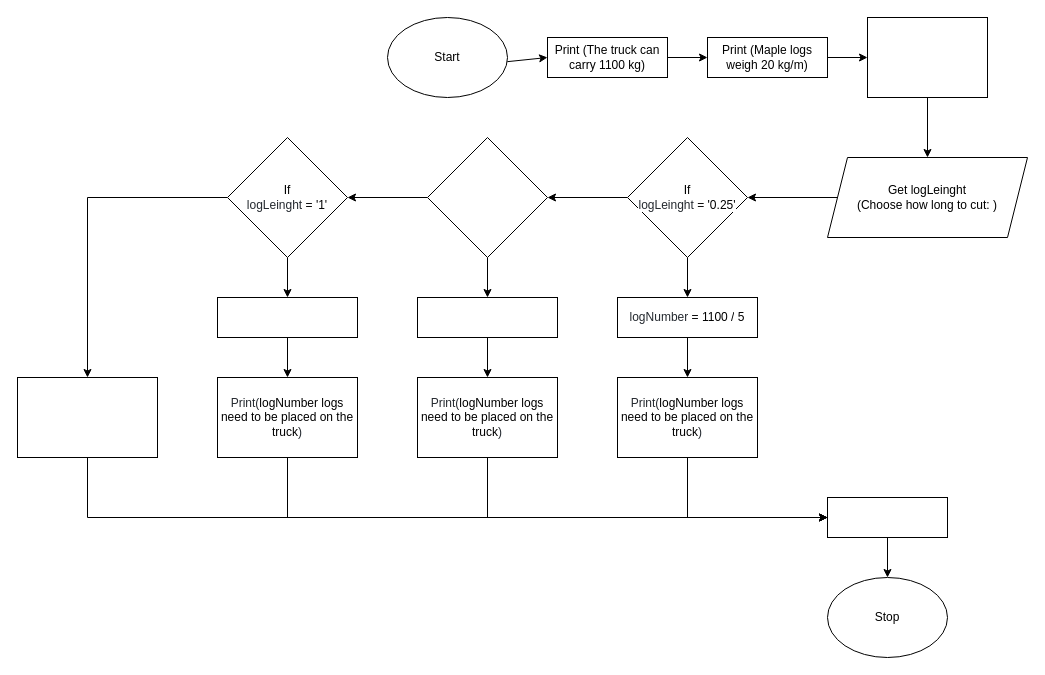
Some shapes in this 1045 by 675 pixel diagram are drawn without their labels. Each missing label, with the centre of its shape:
If logLeinght = '0.5': the point at 487,197
logNumber = 1100 / 10: the point at 487,317
logNumber = 1100 / 20: the point at 287,317
Print (Done): the point at 887,517
Print (You can cut them into pieces of 0.25m, 0.5m, and 1m.): the point at 927,57
Print( Please choose 1 of 3 option ): the point at 87,417
